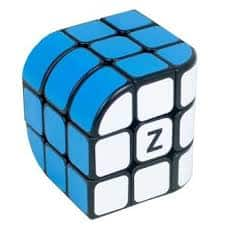rubik_cube: (20, 6, 203, 221)
